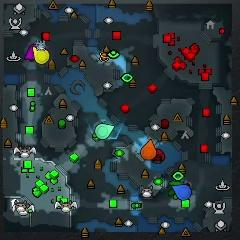p1: (172, 184, 192, 200)
p2: (94, 123, 115, 140)
p3: (24, 43, 38, 60)
p4: (33, 47, 50, 64)
p5: (140, 140, 156, 160)
x4: (168, 181, 183, 200)
